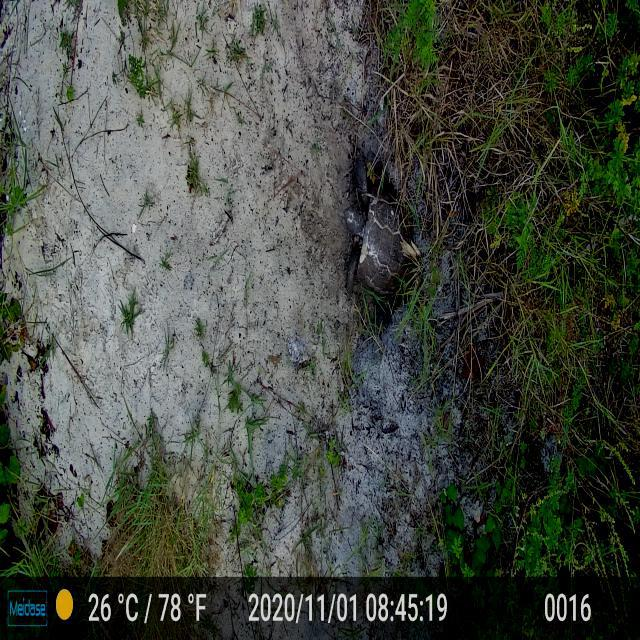tortoise: (346, 144, 414, 324)
